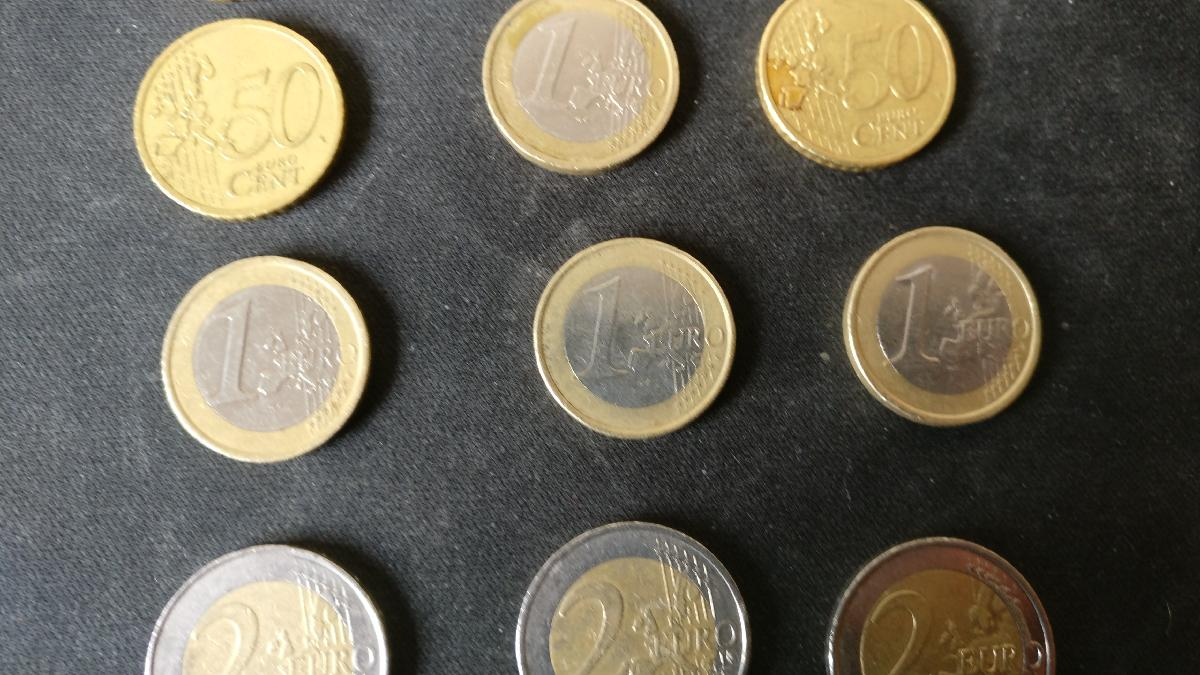Fifty Cent: (131, 16, 351, 222), (756, 1, 965, 174)
One Euro: (157, 252, 377, 464), (528, 235, 744, 443), (838, 225, 1046, 432), (484, 1, 682, 178)
Two Euro: (515, 521, 752, 675), (140, 539, 391, 675), (824, 534, 1058, 675)
